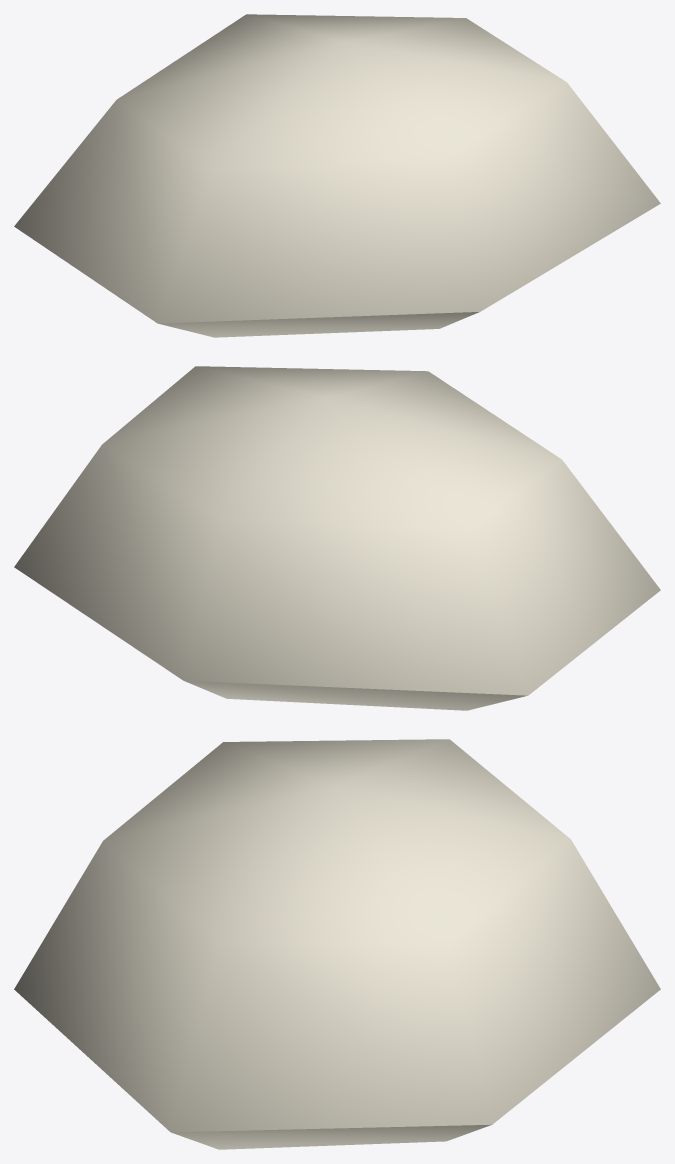
Rendered from white_stones_lod1.glb.
3 renders of one model, top to bottom at view 1: azimuth 30°, elevation 25°; view 2: azimuth 150°, elevation 25°; view 3: azimuth 270°, elevation 25°, orthographic. The views are drawn at different scales.
Visible parts, largest first — view 1: white_stone_11_lod1; view 2: white_stone_11_lod1; view 3: white_stone_11_lod1.
Boxes of the visible parts, bbox=[...] form: white_stone_11_lod1: bbox=[14, 14, 660, 337]; white_stone_11_lod1: bbox=[14, 366, 660, 710]; white_stone_11_lod1: bbox=[14, 739, 660, 1149].
Size of the model in its own units: 2.64 by 1.09 by 2.44.
